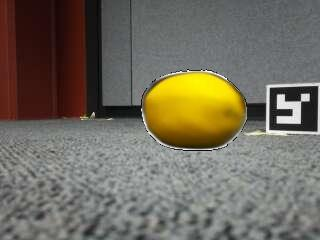lemon: (145, 72, 247, 148)
